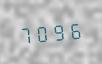nine: (50, 20, 65, 42)
seven: (18, 22, 33, 45)
six: (66, 18, 81, 41)
zero: (34, 21, 49, 44)
